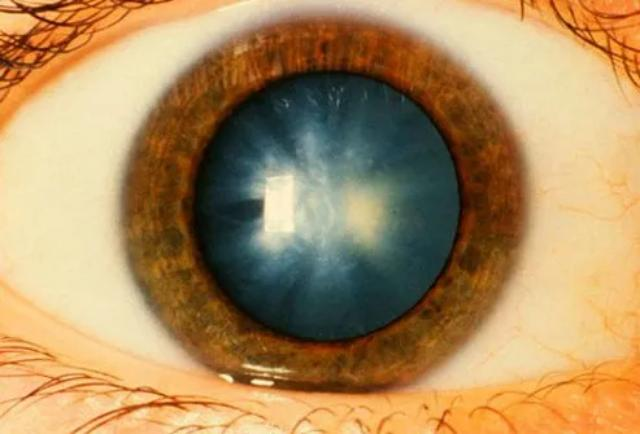eye: (119, 10, 533, 394)
